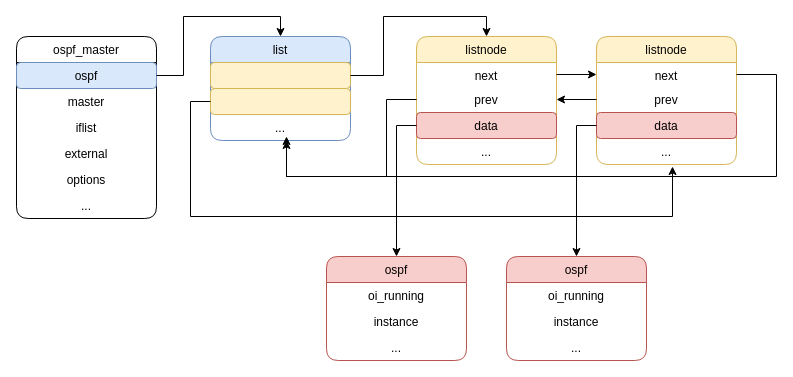
The diagram is 793 pixels wide and 377 high, and some of its shapes have lost their labels. The centre of each missing label's shape, as x and y in pixels:
"head" belongs at point (280, 75).
"tail" belongs at point (280, 101).
